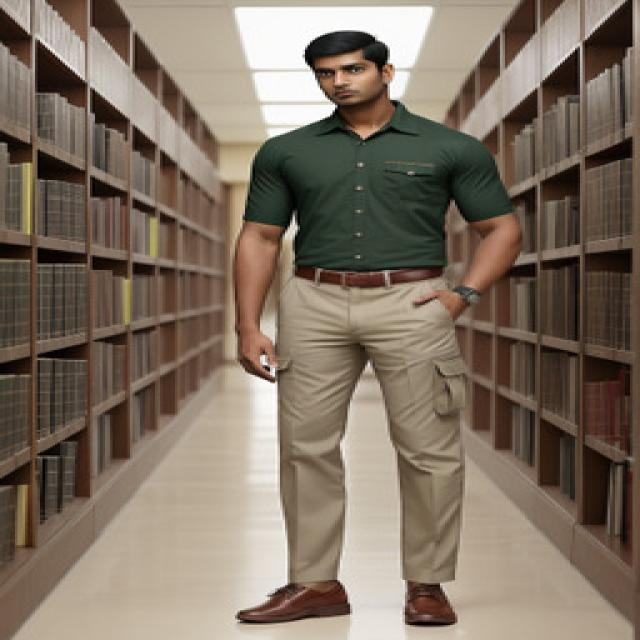Ai human 2: (214, 17, 529, 640)
